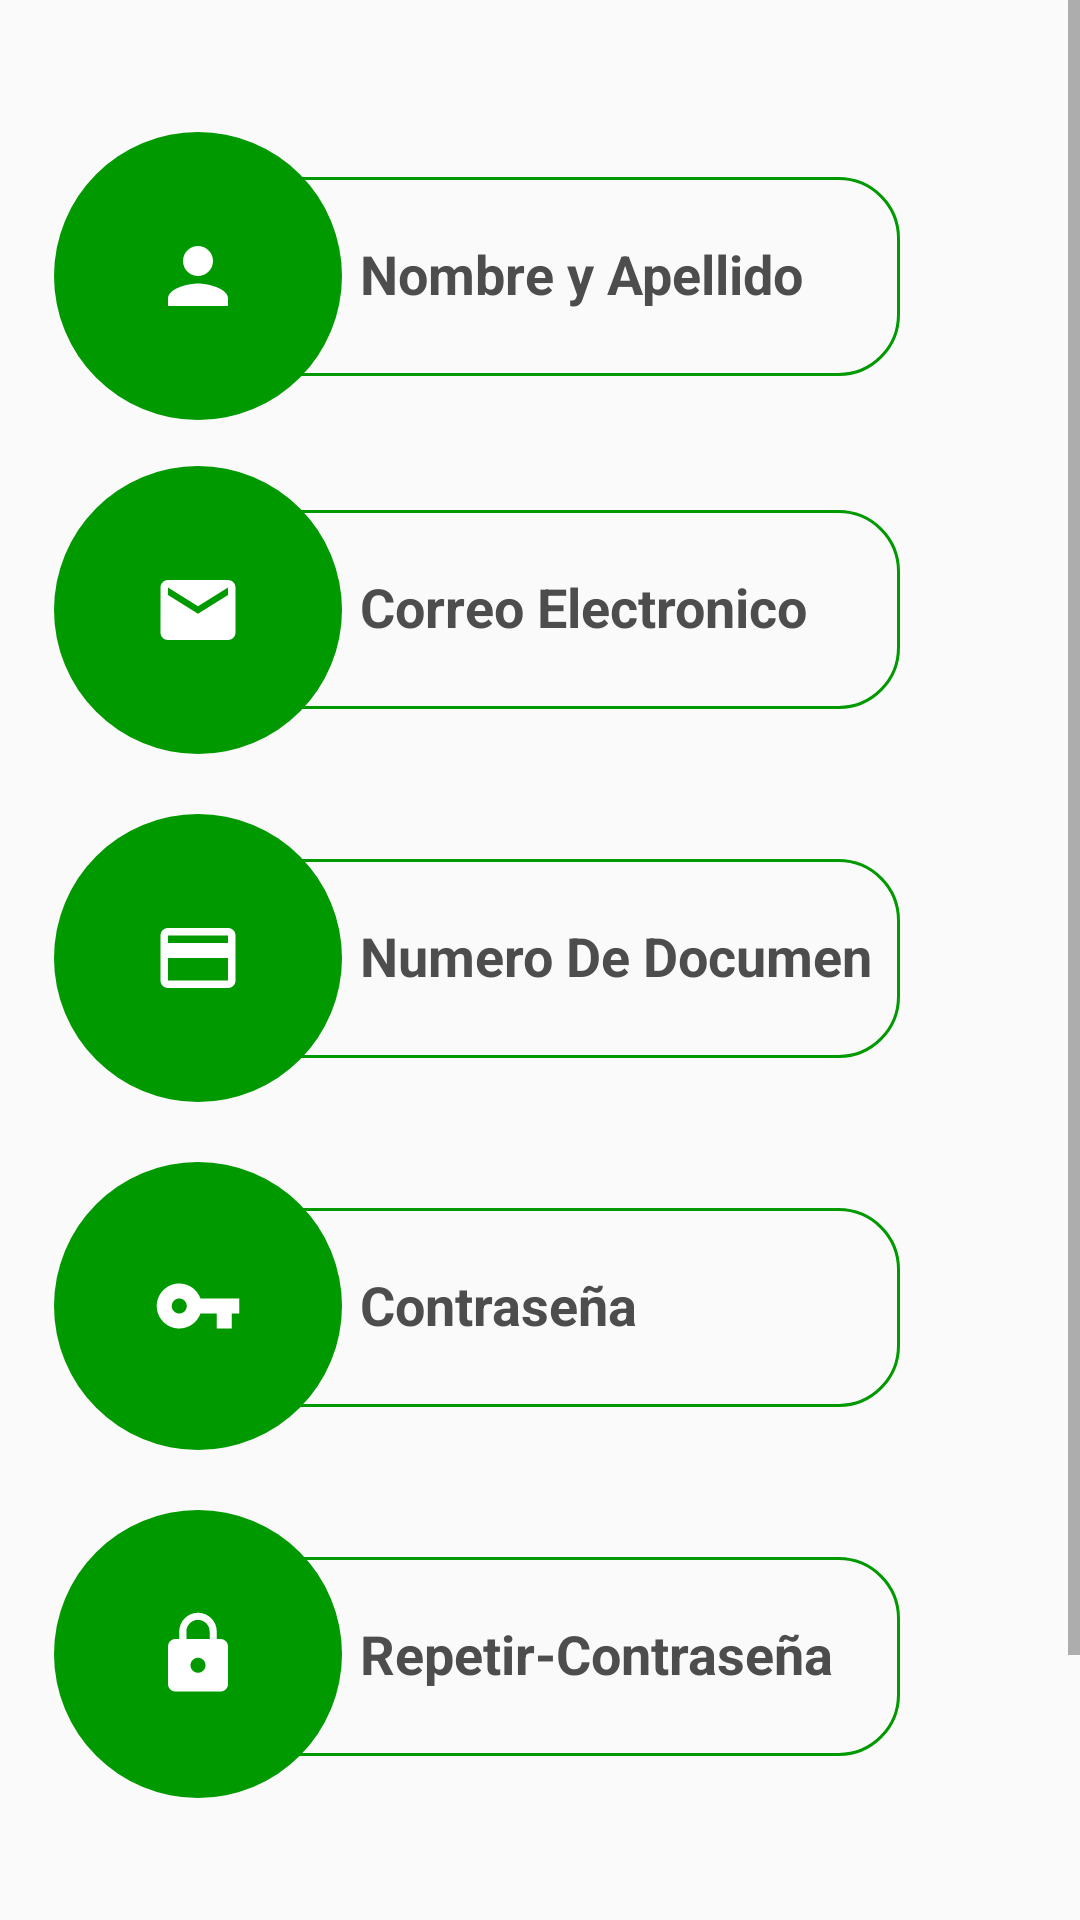

Icons on this 1080 x 1920 Android screen, each with its box as (x1, y1, x2, y2):
arroba: (54, 466, 342, 754)
cedula: (54, 814, 342, 1102)
clave: (54, 1162, 342, 1450)
repetir clave: (54, 1510, 342, 1798)
usuario: (54, 132, 342, 420)
